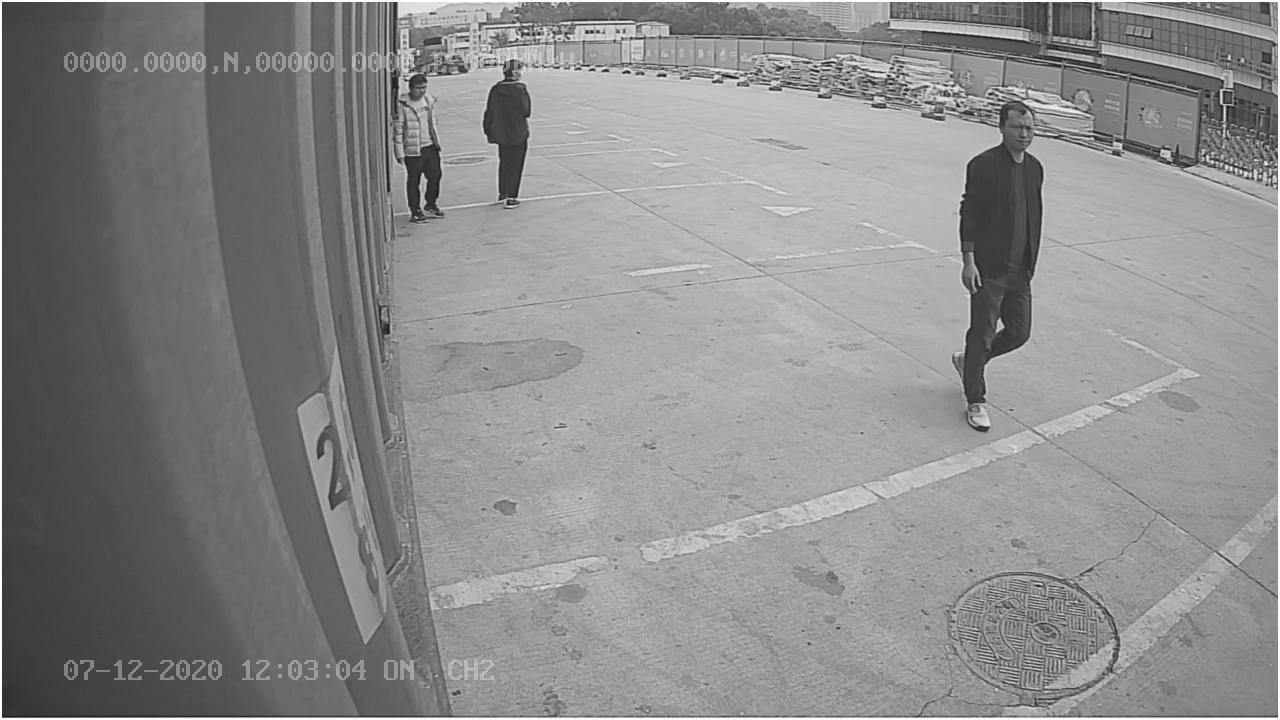person: (945, 98, 1048, 432)
